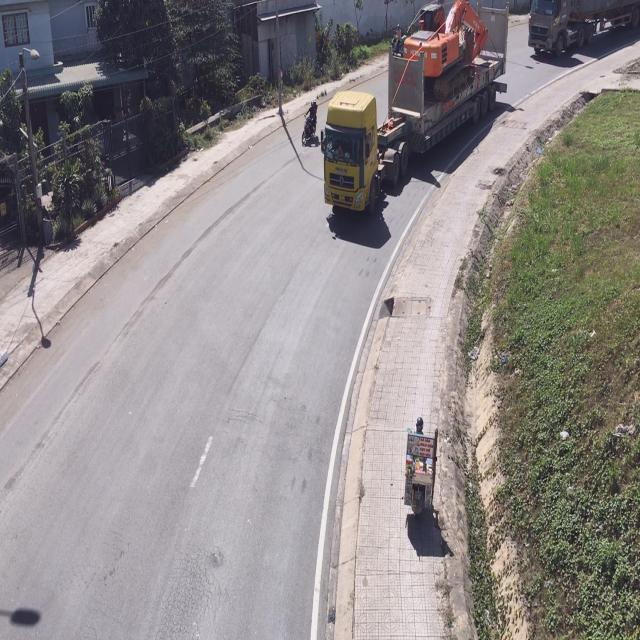motorbike: (403, 415, 433, 519), (303, 100, 320, 150), (388, 25, 405, 55)
truck: (321, 4, 512, 231), (528, 0, 640, 60)
